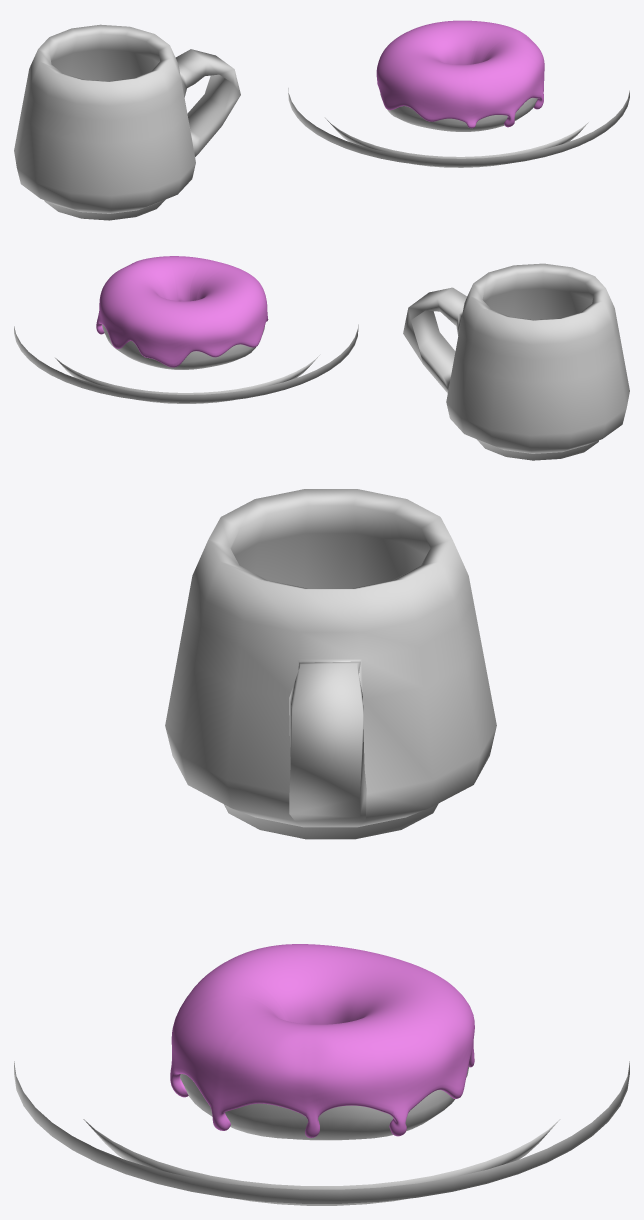
File: fourth-work.glb
3 renders of one model, top to bottom at view 1: azimuth 30°, elevation 25°; view 2: azimuth 150°, elevation 25°; view 3: azimuth 270°, elevation 25°, orthographic. The views are drawn at different scales.
Visible parts, largest first — view 1: Mug, Icing, Plate, Donut; view 2: Mug, Icing, Plate, Donut; view 3: Mug, Icing, Plate, Donut.
Boxes of the visible parts, x1,y1,x2,y2 form: Mug: (14,24,240,220); Icing: (376,20,544,128); Plate: (288,88,629,167); Donut: (380,93,537,131); Mug: (403,263,629,460); Icing: (96,256,268,367); Plate: (14,324,358,403); Donut: (102,324,264,369); Mug: (165,489,496,839); Icing: (170,944,474,1137); Plate: (14,1061,629,1205); Donut: (180,1066,468,1140).
Size of the model in its own units: 1.24 by 0.295 by 0.6347.
